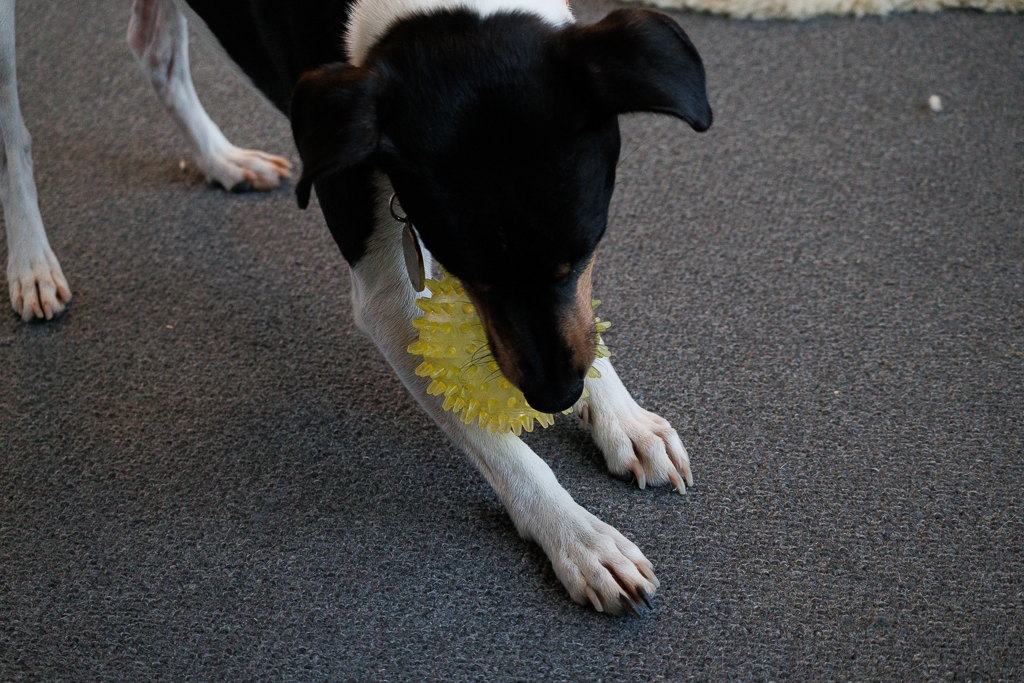Dog: (0, 0, 718, 626)
